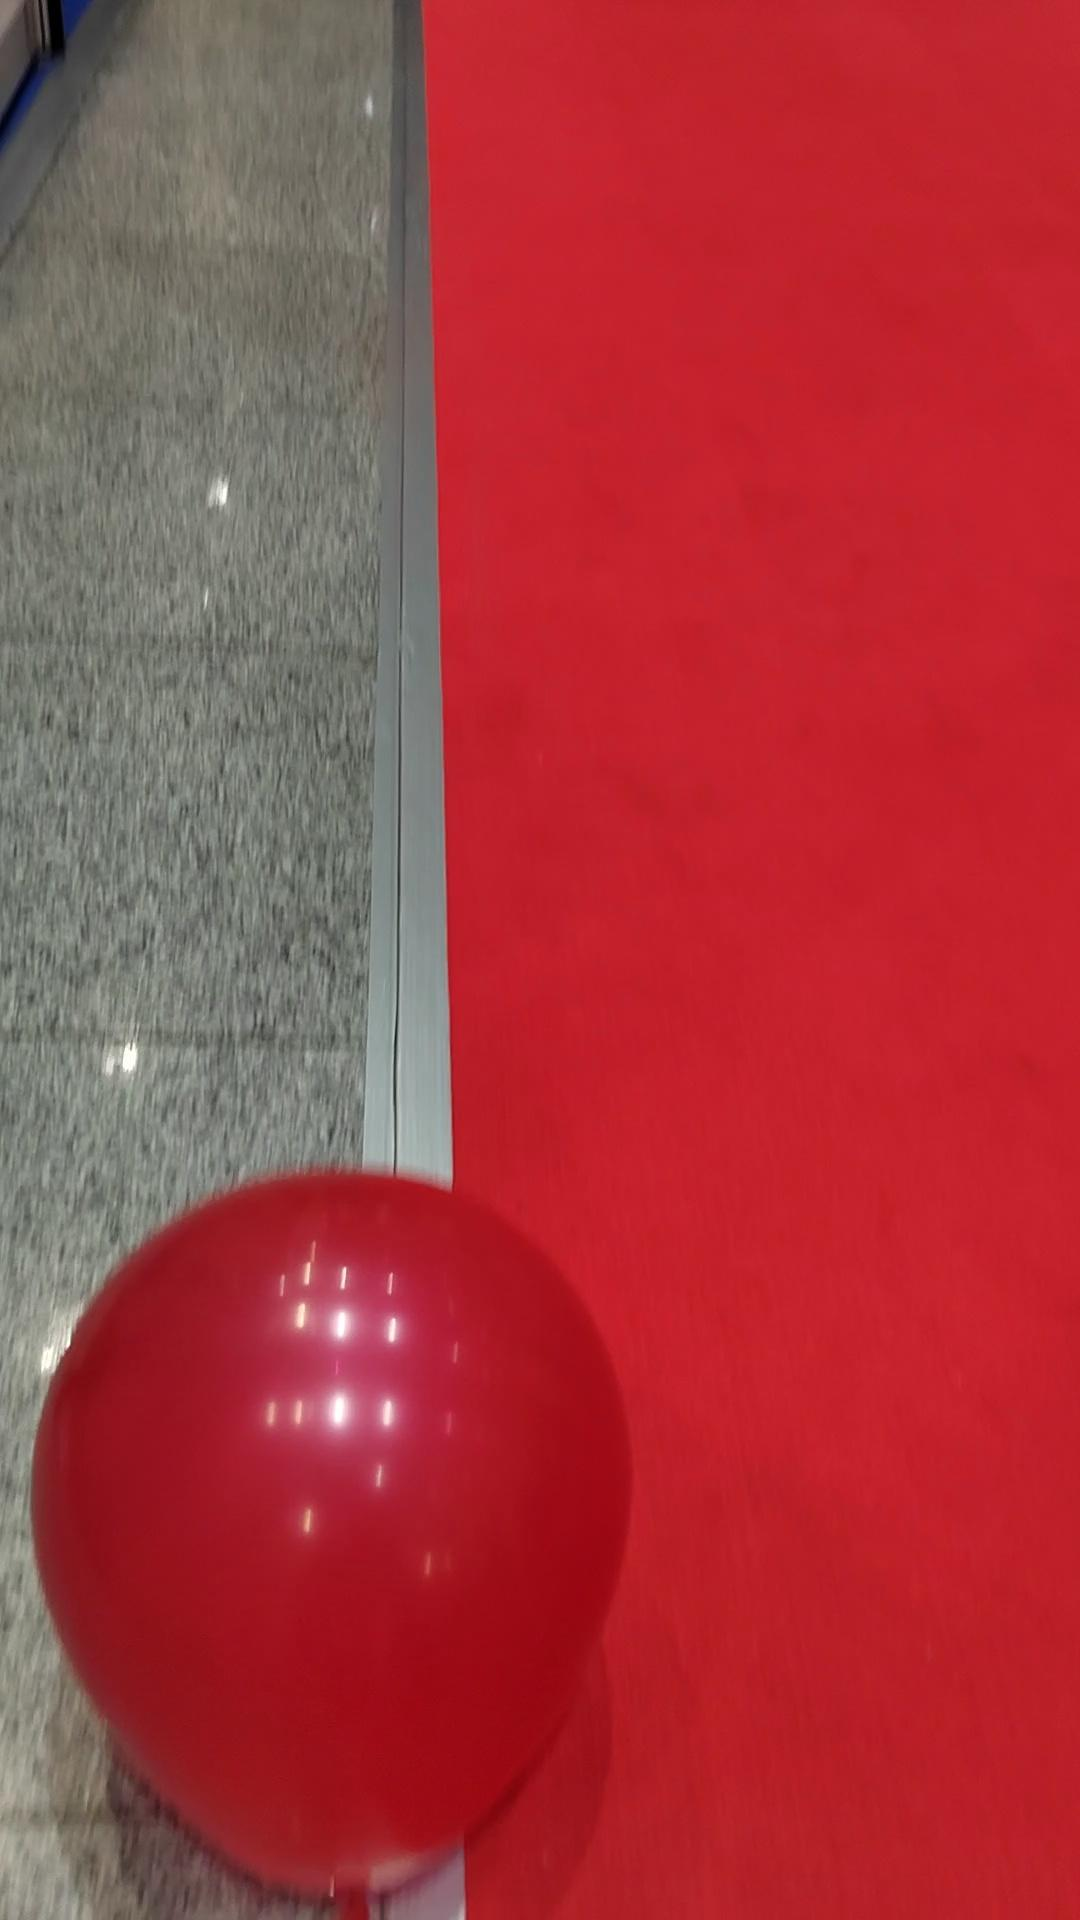red: (25, 1168, 641, 1891)
